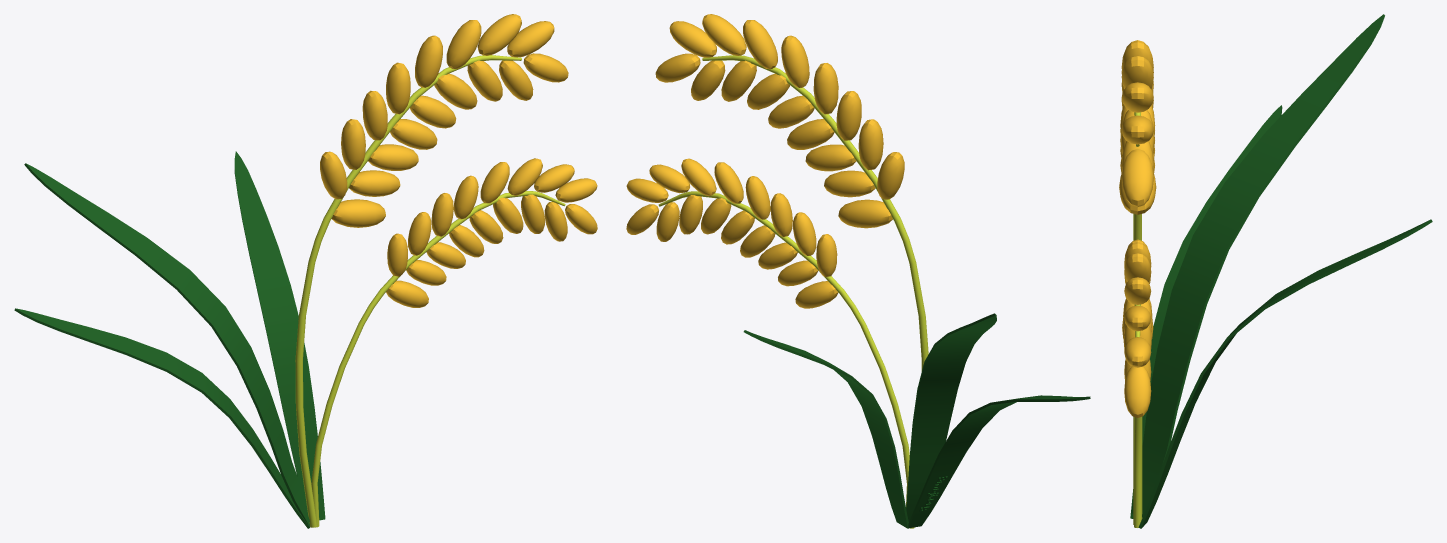
File: sheaf_of_rice.glb
3 renders of one model, left to right at view 1: azimuth 30°, elevation 25°; view 2: azimuth 150°, elevation 25°; view 3: azimuth 270°, elevation 25°, orthographic. The views are drawn at different scales.
Parts seen in each view (by area): view 1: Circle.2077; view 2: Circle.2077; view 3: Circle.2077.
Boxes of the visible parts, x1,y1,x2,y2 form: Circle.2077: (14, 14, 597, 528); Circle.2077: (626, 14, 1090, 528); Circle.2077: (1119, 14, 1432, 528).
Bounding box in the file's own units: 2.37 × 2.02 × 1.02.
1 material, 1 textured.
